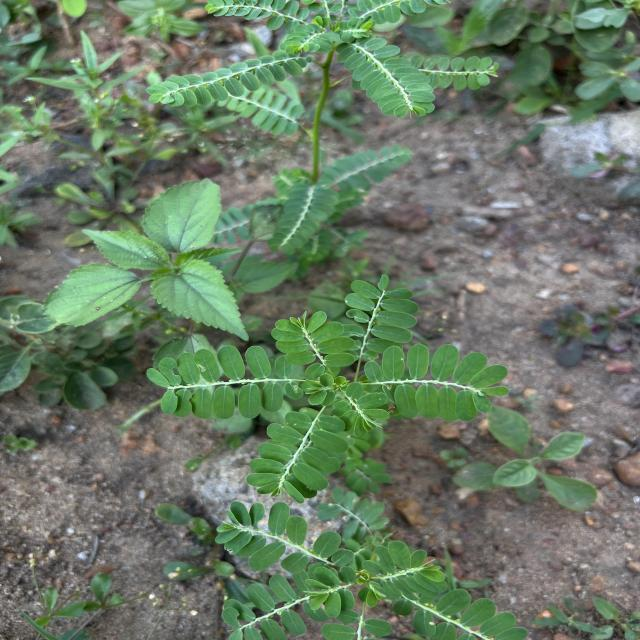Phyllanthus niruri: (350, 342, 510, 422), (140, 340, 299, 420), (208, 500, 342, 577), (244, 410, 348, 504), (334, 31, 440, 120), (148, 51, 308, 108), (399, 587, 542, 640), (342, 272, 422, 352), (270, 308, 356, 381), (359, 538, 434, 591), (330, 380, 392, 436)
